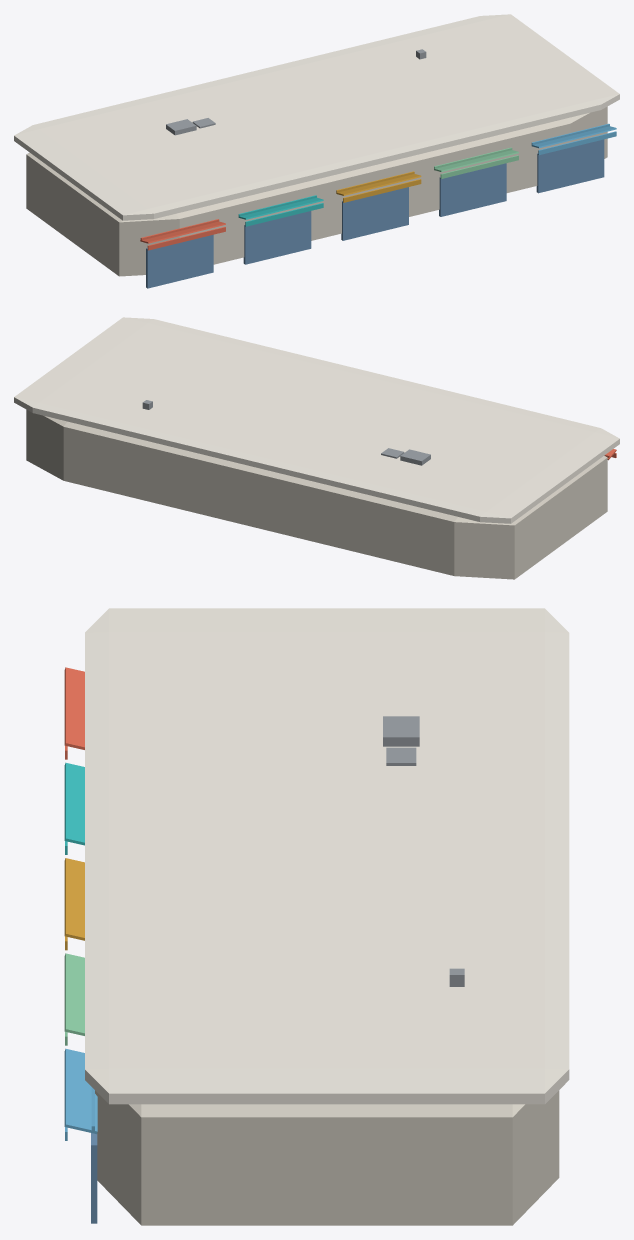
File: strip.glb
3 renders of one model, top to bottom at view 1: azimuth 30°, elevation 25°; view 2: azimuth 150°, elevation 25°; view 3: azimuth 270°, elevation 25°, orthographic. The views are drawn at different scales.
Visible parts, largest first — view 1: cornice, walls, sf.004, sf.001, sf, sf.003, sf.002, valance.001, valance.003, valance.004, valance.002, valance (+5 smaller); view 2: cornice, walls; view 3: cornice, walls, awn.004, awn, awn.001, awn.003, awn.002, hvac.
Part boxes in pixels (x1,y1,x2,y2): cornice: [14, 14, 619, 220]; walls: [26, 106, 607, 276]; sf.004: [536, 139, 604, 193]; sf.001: [243, 211, 311, 264]; sf: [146, 234, 213, 288]; sf.003: [439, 163, 506, 216]; sf.002: [341, 187, 408, 240]; valance.001: [245, 203, 323, 226]; valance.003: [440, 155, 518, 178]; valance.004: [538, 131, 616, 155]; valance.002: [343, 179, 421, 202]; valance: [147, 227, 225, 250]; cornice: [14, 317, 619, 523]; walls: [26, 409, 607, 579]; cornice: [85, 608, 569, 1104]; walls: [95, 1090, 559, 1225]; awn.004: [64, 1048, 97, 1134]; awn: [64, 667, 84, 749]; awn.001: [64, 762, 84, 845]; awn.003: [64, 953, 84, 1035]; awn.002: [64, 858, 84, 940]; hvac: [383, 716, 419, 746].
Bounding box in the file's own units: 34.6 × 5.4 × 15.21.
